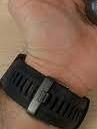ironball: (87, 0, 96, 29)
